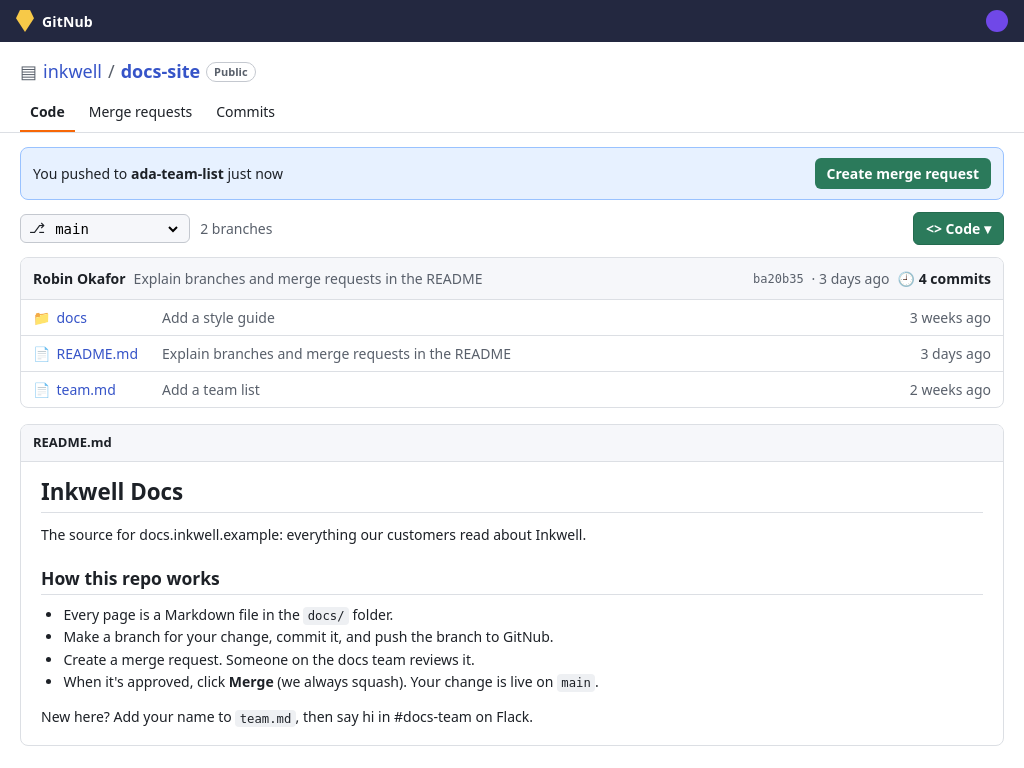
Test: creating a merge request › the form is prefilled from the last commit and creates the MR
Click the link "Create merge request". click: (903, 174)
box: [814,158,991,189]
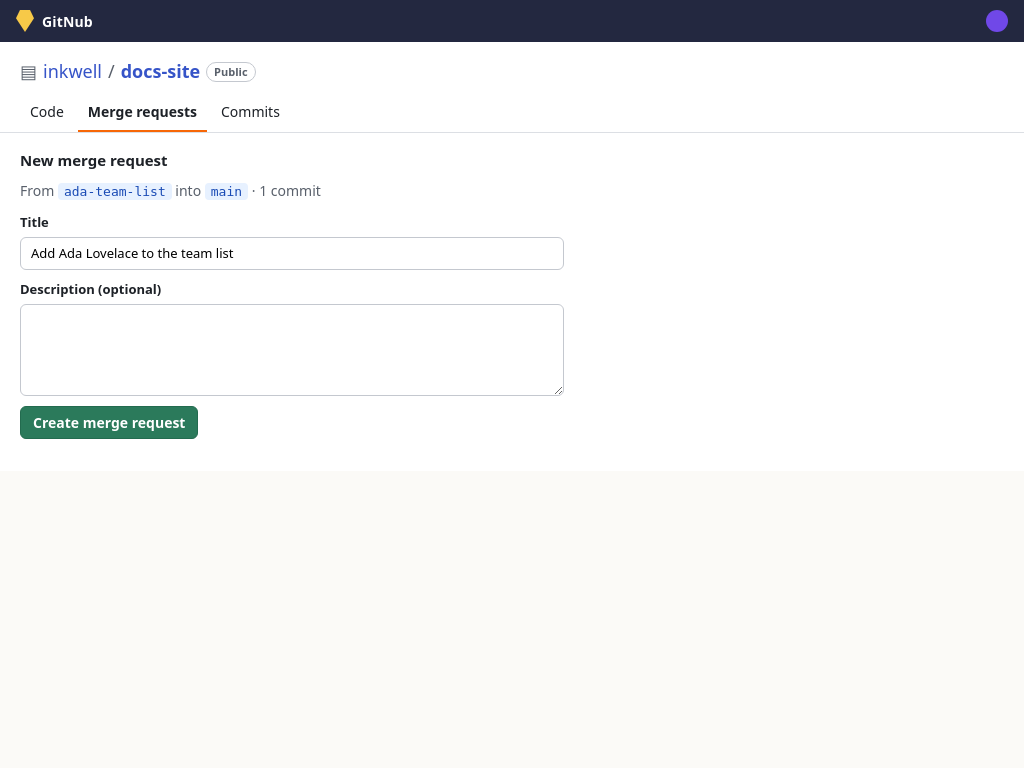
Result: the heading "New merge request" is shown at [20,150,168,170]
Result: the field labelled "Title" holds "Add Ada Lovelace to the team list" at [20,236,564,270]
Click the button "Create merge request". click: (109, 422)
box: [20,406,198,438]
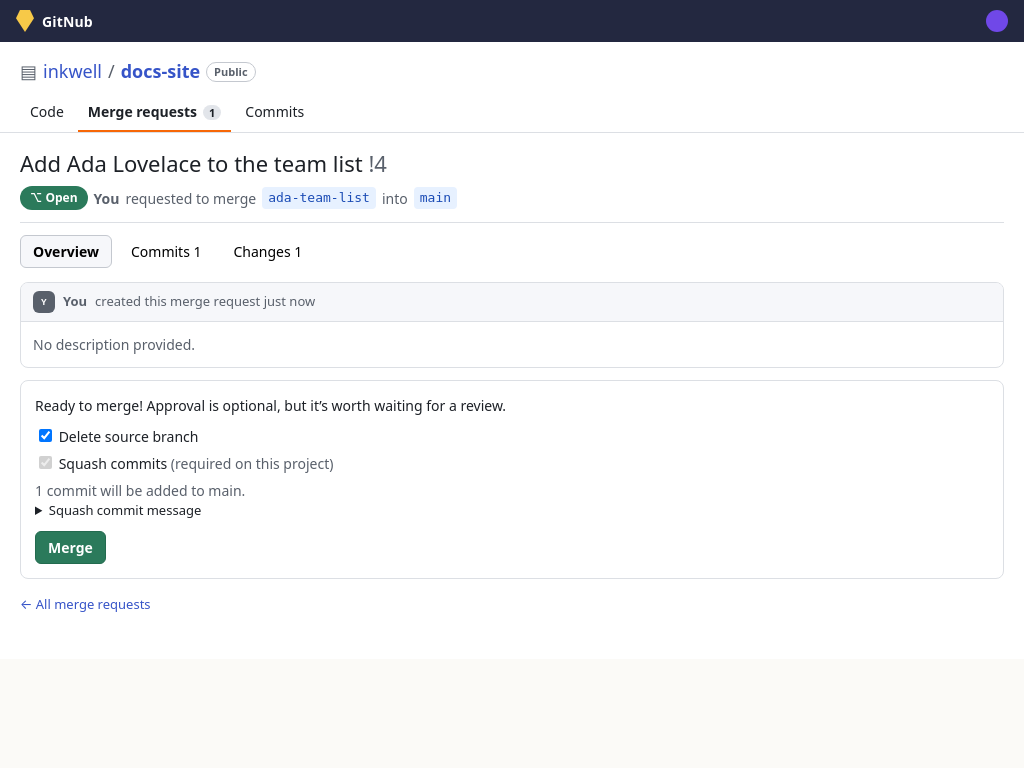
Result: the heading "Add Ada Lovelace to the team list !4" is shown at [20,148,387,178]
Result: the text "⌥ Open You requested to merge ada-team-list into main" is shown at [20,186,1004,223]
